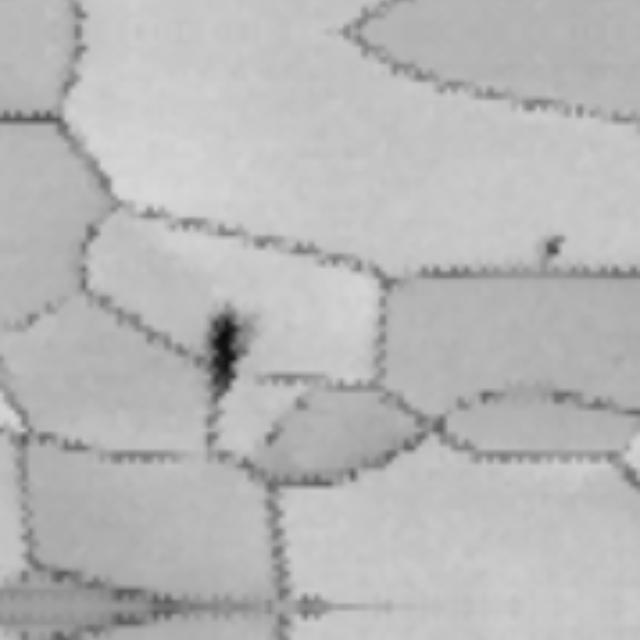good_void: (199, 299, 261, 414), (532, 230, 569, 272), (260, 417, 290, 453), (288, 389, 315, 415)
